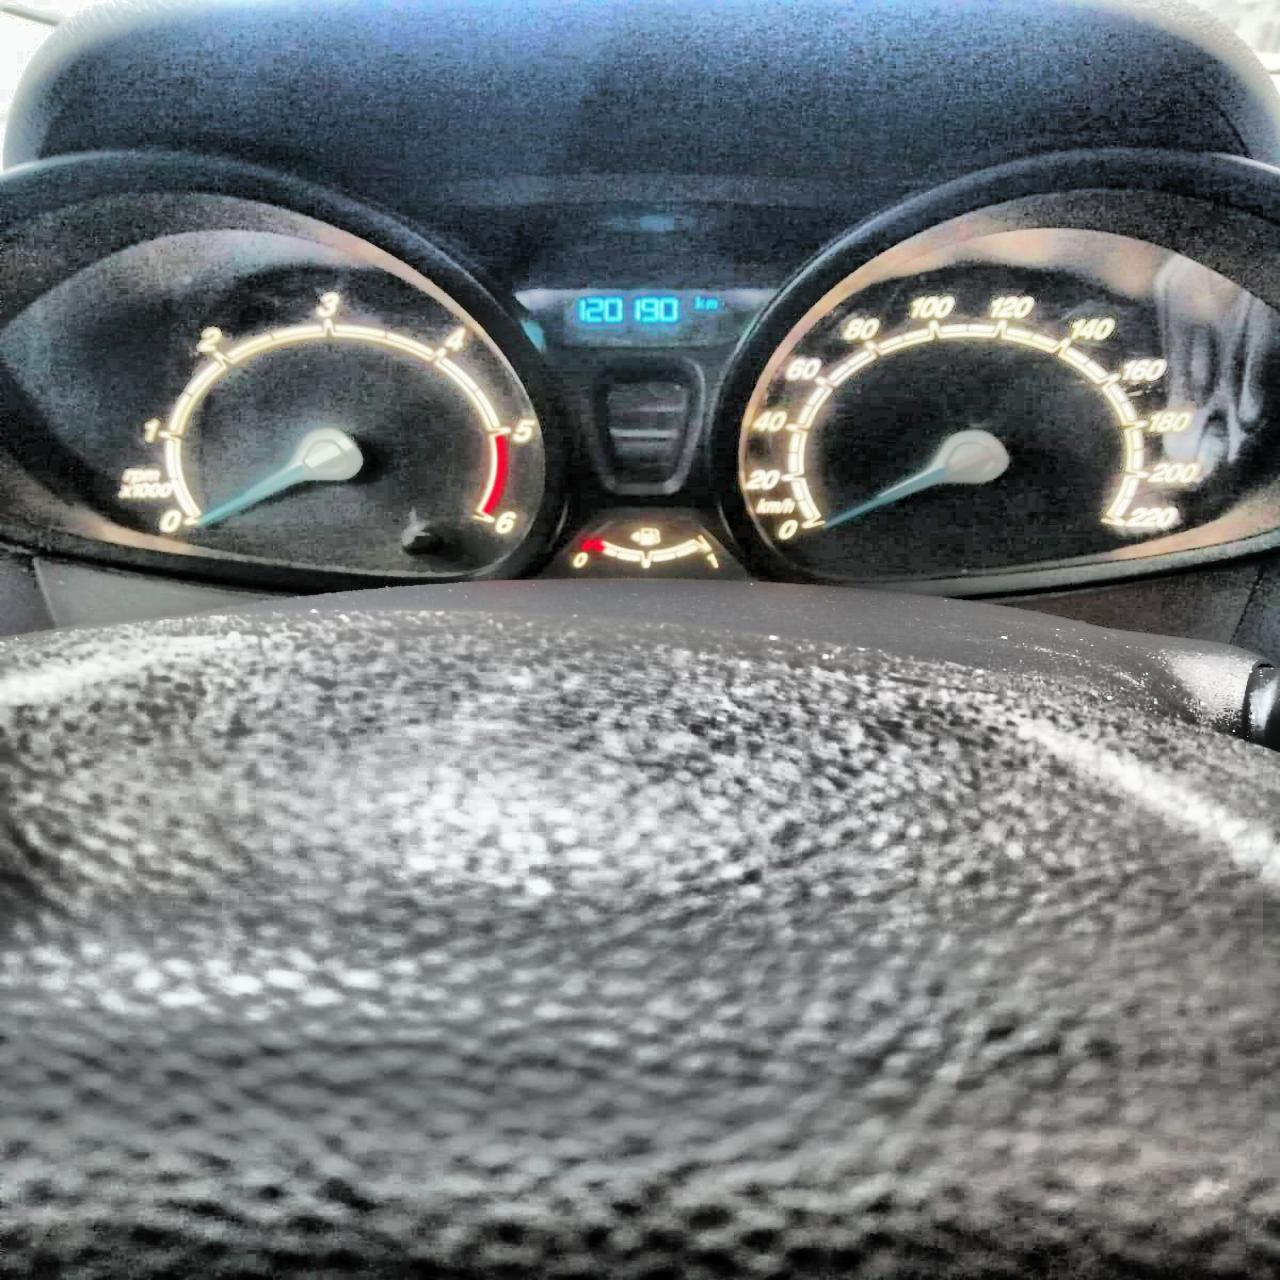0: (604, 294, 622, 321), (660, 297, 679, 321), (640, 295, 658, 321)
1: (577, 297, 585, 321), (634, 297, 640, 321)
2: (586, 295, 602, 321)
X: (704, 297, 717, 309), (694, 293, 703, 308)
odometer: (505, 284, 784, 349)
